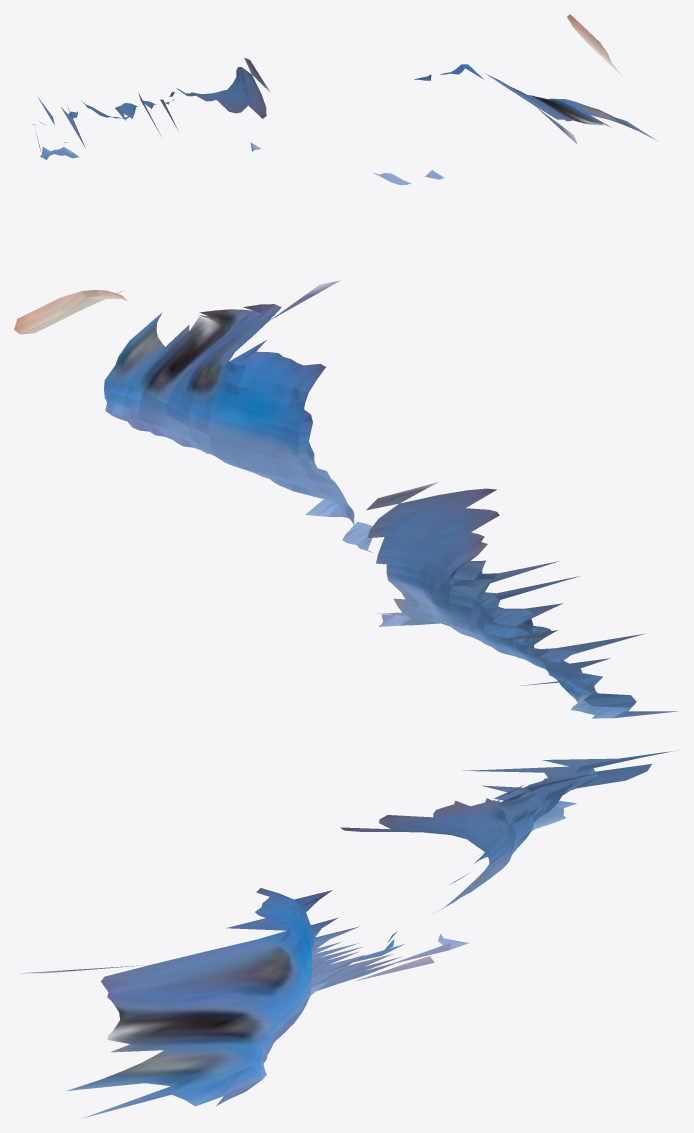
Rendered from observed-surface.glb.
The picture shows the model from 3 angles, top to bottom: view 1: azimuth 30°, elevation 25°; view 2: azimuth 150°, elevation 25°; view 3: azimuth 270°, elevation 25°; orthographic projection. The views are drawn at different scales.
Parts seen in each view (by area): view 1: geometry_0; view 2: geometry_0; view 3: geometry_0.
Part boxes in pixels (<box>): geometry_0: <box>32,14,656,185</box>; geometry_0: <box>14,280,678,718</box>; geometry_0: <box>21,750,677,1118</box>.
Size of the model in its own units: 0.6958 by 0.1911 by 0.5696.
1 material, 1 textured.
